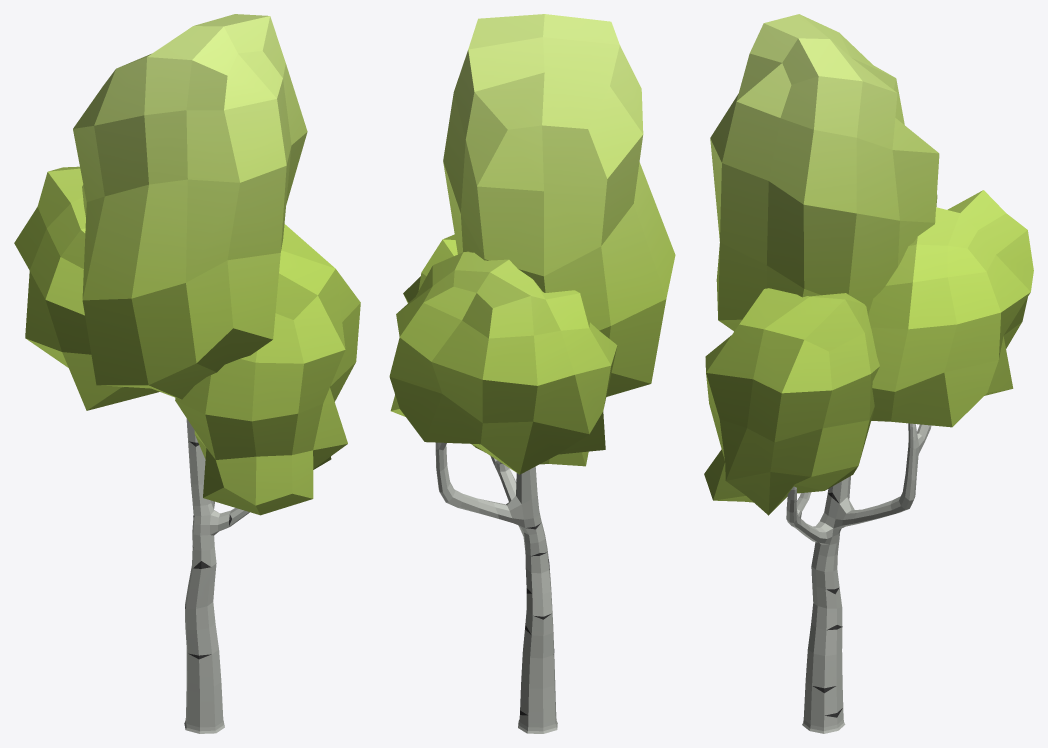
Rendered from BirchTree3.fbx.
3 views of the same model, side by side, from view 1: azimuth 30°, elevation 25°; view 2: azimuth 150°, elevation 25°; view 3: azimuth 270°, elevation 25° (orthographic). The views are drawn at different scales.
Visible parts, largest first — view 1: BirchTree_3_Cube.001, BirchTree_3_Cube.065; view 2: BirchTree_3_Cube.001, BirchTree_3_Cube.065; view 3: BirchTree_3_Cube.001, BirchTree_3_Cube.065.
Boxes of the visible parts, bbox=[...] form: BirchTree_3_Cube.001: bbox=[14, 14, 360, 515]; BirchTree_3_Cube.065: bbox=[184, 418, 249, 733]; BirchTree_3_Cube.001: bbox=[389, 14, 675, 474]; BirchTree_3_Cube.065: bbox=[435, 442, 557, 733]; BirchTree_3_Cube.001: bbox=[704, 14, 1033, 515]; BirchTree_3_Cube.065: bbox=[786, 423, 931, 733].
Bounding box in the file's own units: 157 × 409 × 177.
